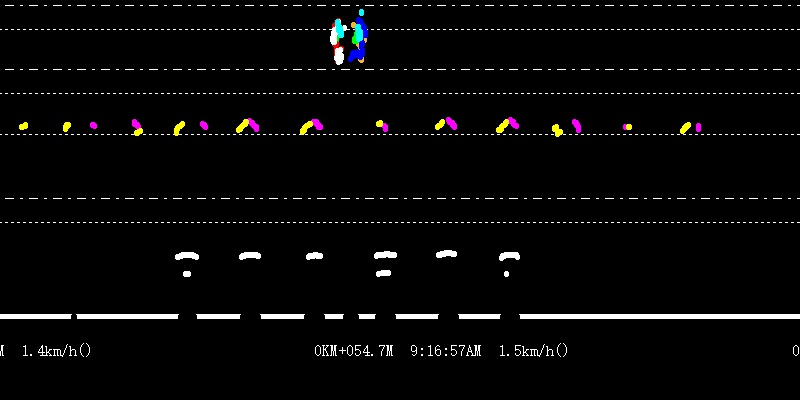J: (329, 6, 366, 66)
y_p: (165, 115, 528, 271)
